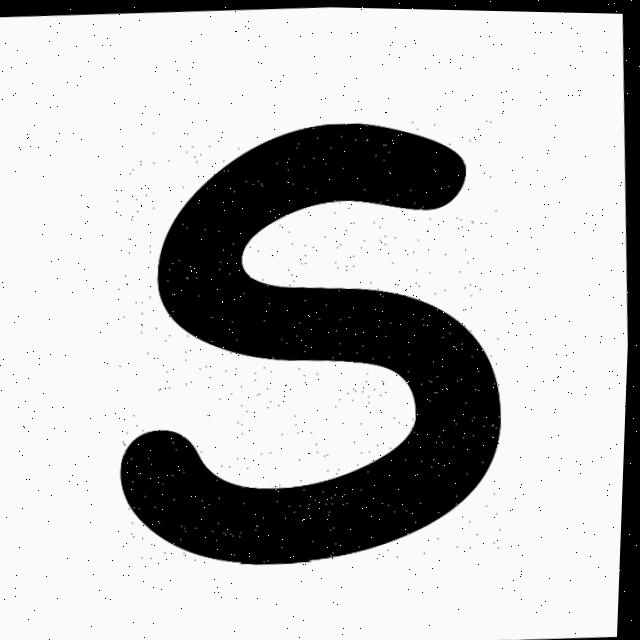S: (125, 123, 503, 562)
